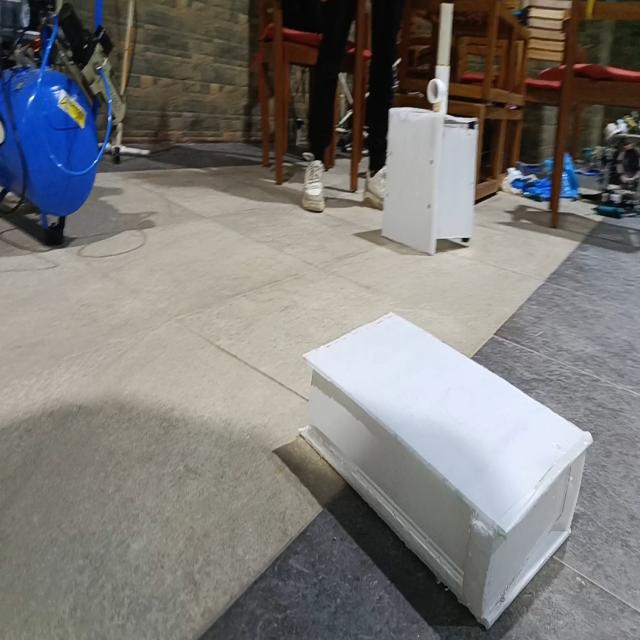Cube: (380, 104, 479, 256)
Cuboid: (298, 308, 593, 630)
